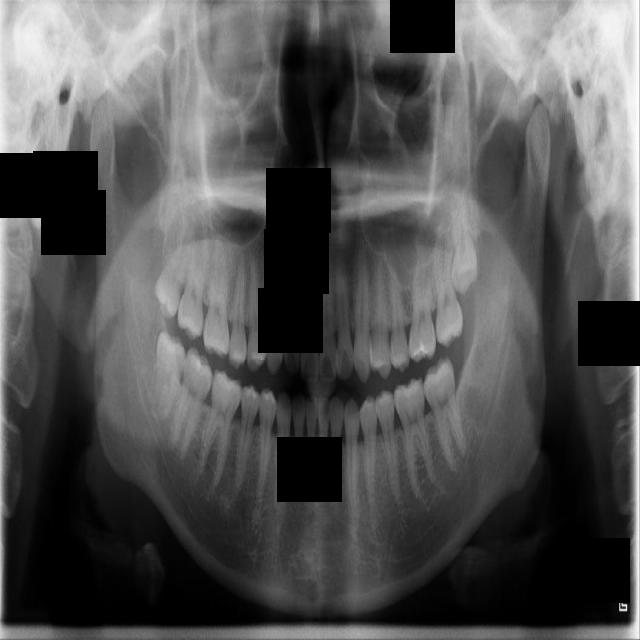3M ESPE Implant: (145, 240, 196, 321)
52: (404, 320, 439, 367)
73: (588, 557, 597, 581)
BioHorizons Implant: (431, 234, 464, 350)
BioLife Implant: (451, 190, 480, 297)
Blue Sky Bio Implant: (418, 355, 470, 471)
Caries: (175, 239, 211, 341)
Implant: (170, 345, 217, 456)
Keystone Dental Implant: (149, 328, 189, 423)
